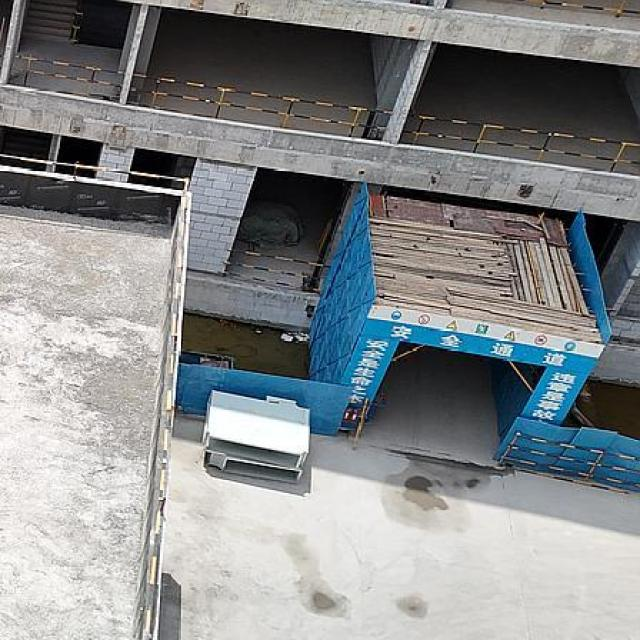edge_guardrail: (0, 148, 190, 640), (129, 73, 394, 138), (401, 111, 640, 172), (10, 53, 126, 87), (222, 249, 324, 280), (524, 0, 640, 19)
